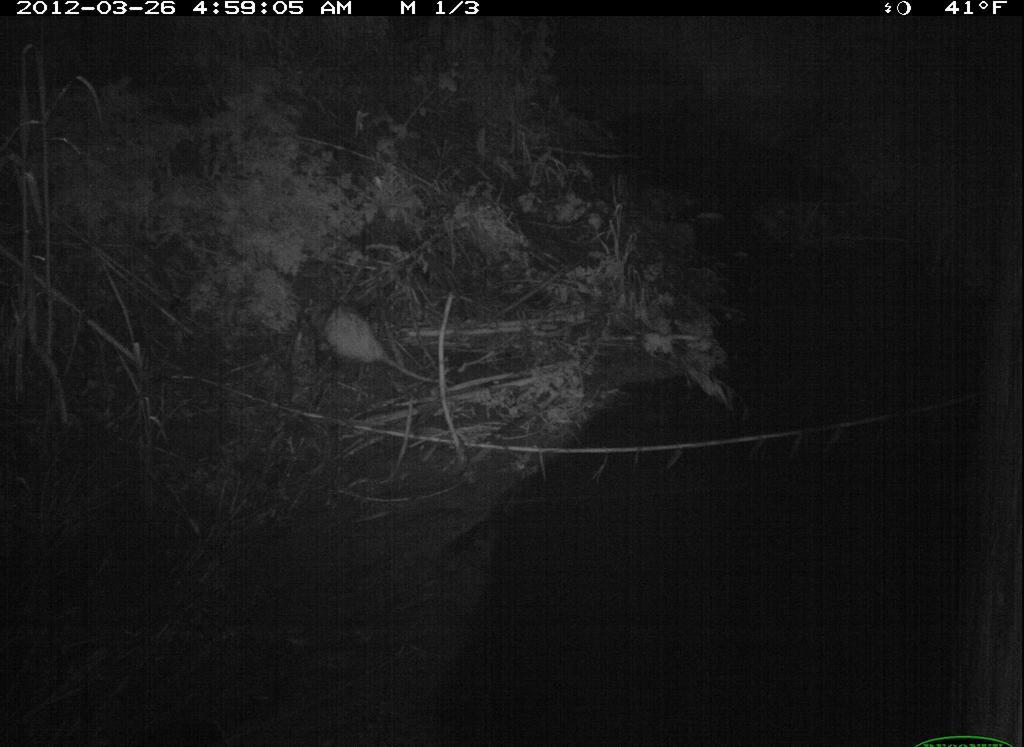opossum: (317, 303, 434, 387)
